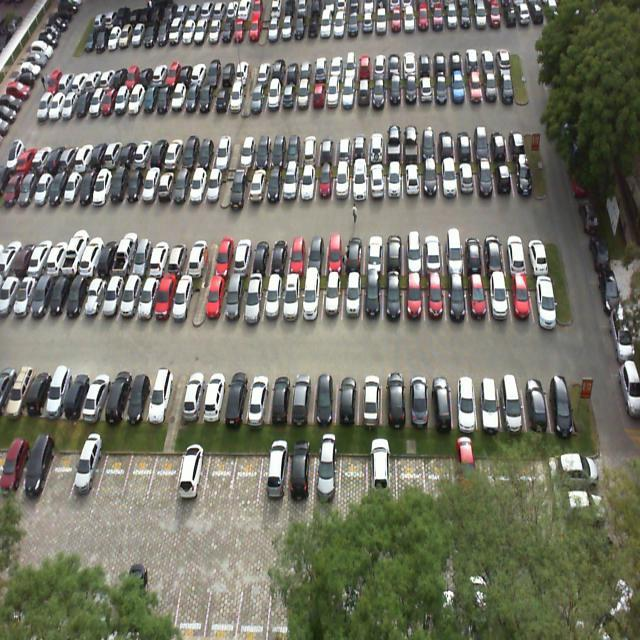space-empty: (94, 445, 132, 502), (123, 442, 158, 502), (148, 444, 182, 500), (43, 445, 78, 499), (231, 451, 264, 504), (204, 448, 238, 498)
space-occupied: (71, 446, 106, 501), (545, 370, 576, 426), (499, 373, 528, 432), (175, 445, 208, 496), (312, 451, 342, 507), (223, 370, 254, 424), (21, 446, 55, 494), (259, 448, 290, 500), (523, 371, 550, 428), (64, 367, 93, 420), (476, 372, 502, 429), (117, 271, 146, 322), (222, 272, 249, 326), (83, 371, 112, 421), (288, 449, 314, 504), (106, 371, 134, 422), (452, 374, 479, 426), (136, 267, 162, 320), (428, 375, 454, 428), (127, 370, 154, 420), (312, 372, 336, 428), (268, 373, 294, 424), (154, 274, 180, 324), (203, 370, 229, 420), (246, 372, 272, 422), (262, 270, 286, 324), (530, 270, 557, 318), (148, 374, 175, 422), (359, 371, 382, 426), (174, 272, 198, 324), (382, 371, 405, 424), (101, 270, 125, 320), (241, 275, 265, 325), (335, 373, 359, 423), (290, 372, 313, 424), (405, 374, 428, 426), (486, 273, 511, 320), (483, 227, 507, 275), (181, 373, 206, 418), (443, 226, 466, 273), (205, 273, 225, 327), (130, 236, 156, 276), (113, 238, 140, 276), (509, 276, 532, 320), (303, 276, 324, 324), (155, 165, 178, 208), (525, 229, 548, 272), (444, 277, 467, 320), (467, 275, 488, 322), (148, 237, 172, 278), (188, 164, 211, 206), (363, 276, 384, 322), (282, 276, 302, 324), (167, 238, 192, 276), (505, 227, 526, 272), (322, 277, 343, 322), (425, 229, 445, 276), (188, 239, 212, 278), (139, 165, 162, 205), (511, 156, 534, 196), (287, 234, 310, 274), (404, 226, 424, 272), (404, 274, 424, 320), (426, 276, 446, 322), (172, 165, 193, 208), (382, 231, 404, 272), (229, 238, 252, 277), (204, 166, 226, 206), (464, 228, 484, 272), (231, 164, 252, 205), (213, 239, 236, 276), (384, 276, 402, 322), (307, 234, 328, 273), (345, 231, 364, 274), (268, 236, 290, 272), (251, 235, 272, 272), (345, 275, 362, 320), (324, 235, 344, 273), (364, 235, 383, 273), (458, 162, 478, 198), (478, 158, 496, 198), (299, 166, 317, 205), (494, 160, 514, 195), (267, 166, 284, 207), (283, 164, 300, 205), (250, 166, 268, 204), (368, 162, 386, 200), (422, 163, 440, 198), (333, 165, 350, 202), (388, 162, 404, 200), (403, 163, 420, 198), (440, 162, 458, 195), (316, 166, 332, 200), (351, 164, 367, 198)
